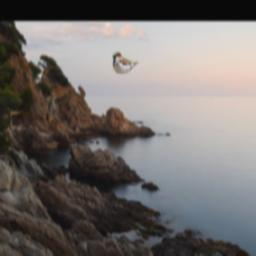Sparrow: (112, 51, 139, 73)
